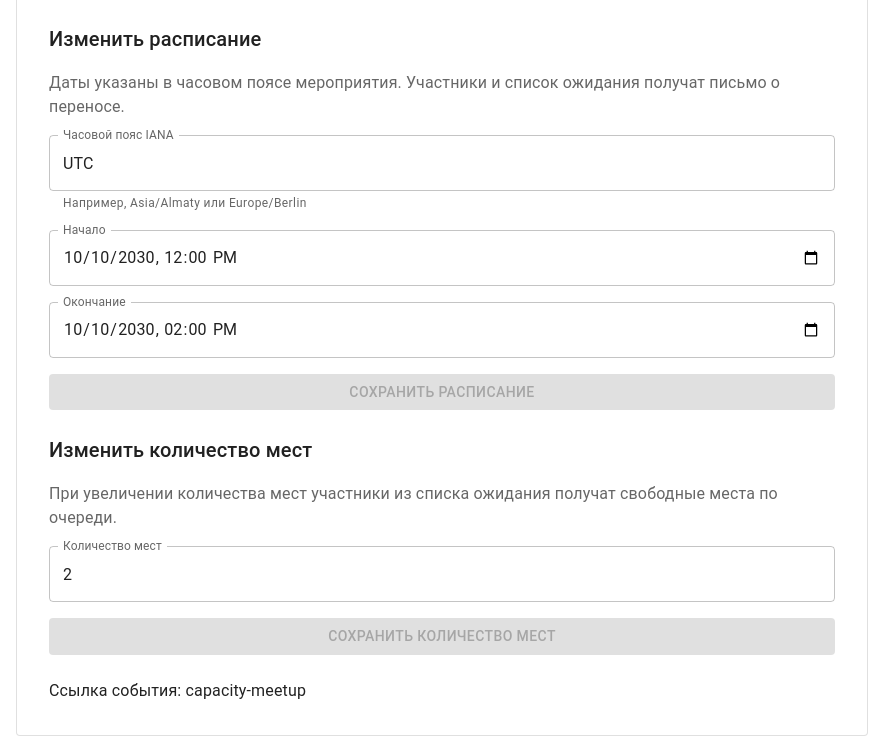
prefills published capacity and sends only capacity with CSRF; updates detail and invalidates list/public
(page scrolled)
Check: the button "Сохранить количество мест" is disabled, box [49,618,835,655]
Step 1. Replace the text in the number field labelled "Количество мест" with "4" → (442, 574), box [49,546,835,602]
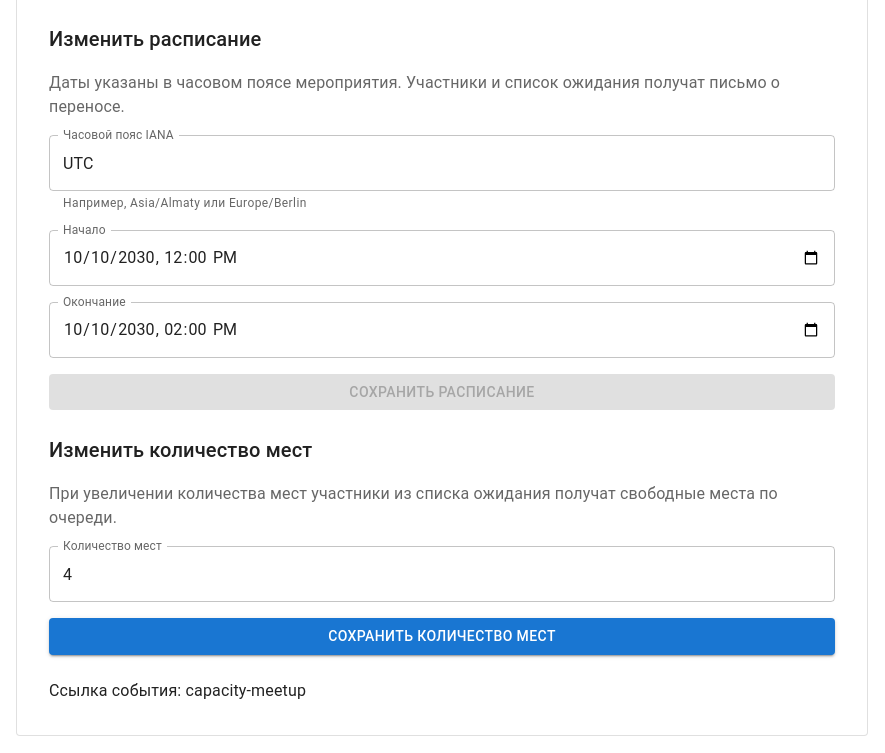
Step 2. Click the button "Сохранить количество мест" → (442, 637), box [49,618,835,655]
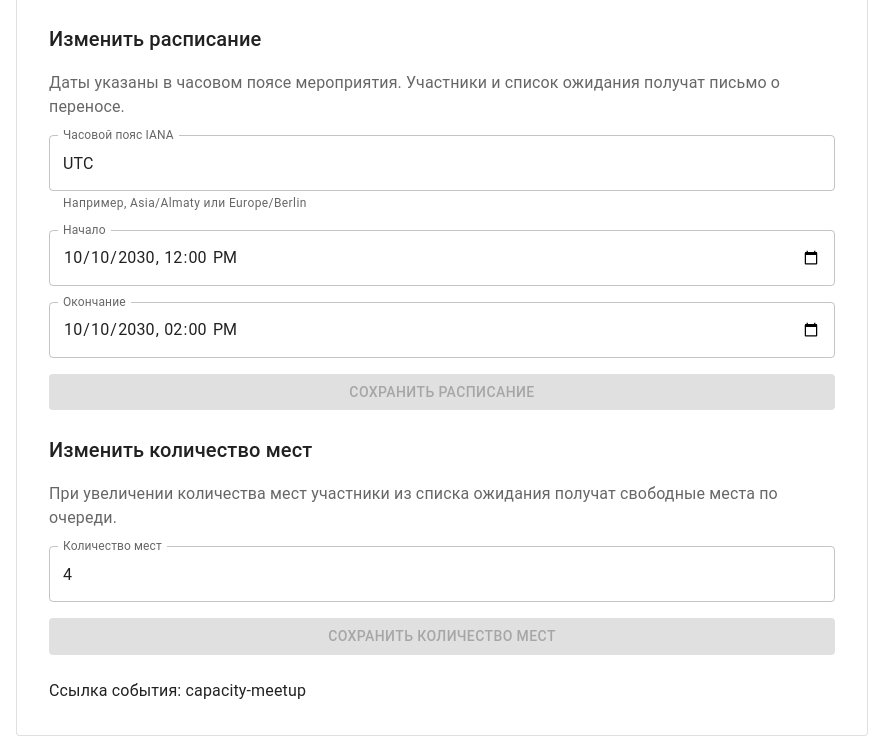
Check: the button "Сохранить количество мест" is disabled, box [49,618,835,655]
